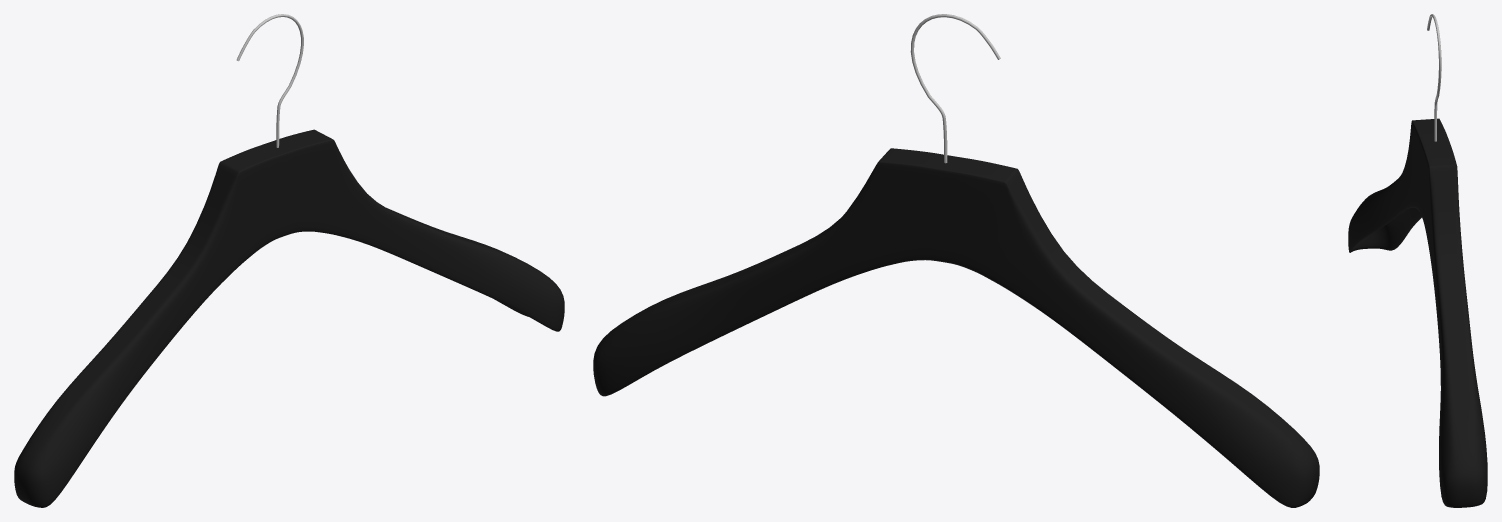
File: YMJ-衣架2.fbx
3 renders of one model, left to right at view 1: azimuth 30°, elevation 25°; view 2: azimuth 150°, elevation 25°; view 3: azimuth 270°, elevation 25°, orthographic. The views are drawn at different scales.
Visible parts, largest first — view 1: YMJ-衣架2; view 2: YMJ-衣架2; view 3: YMJ-衣架2.
Boxes of the visible parts, bbox=[...] form: YMJ-衣架2: bbox=[14, 14, 564, 507]; YMJ-衣架2: bbox=[593, 14, 1319, 507]; YMJ-衣架2: bbox=[1348, 14, 1487, 507].
Size of the model in its own units: 0.2878 by 0.0643 by 0.1821.
